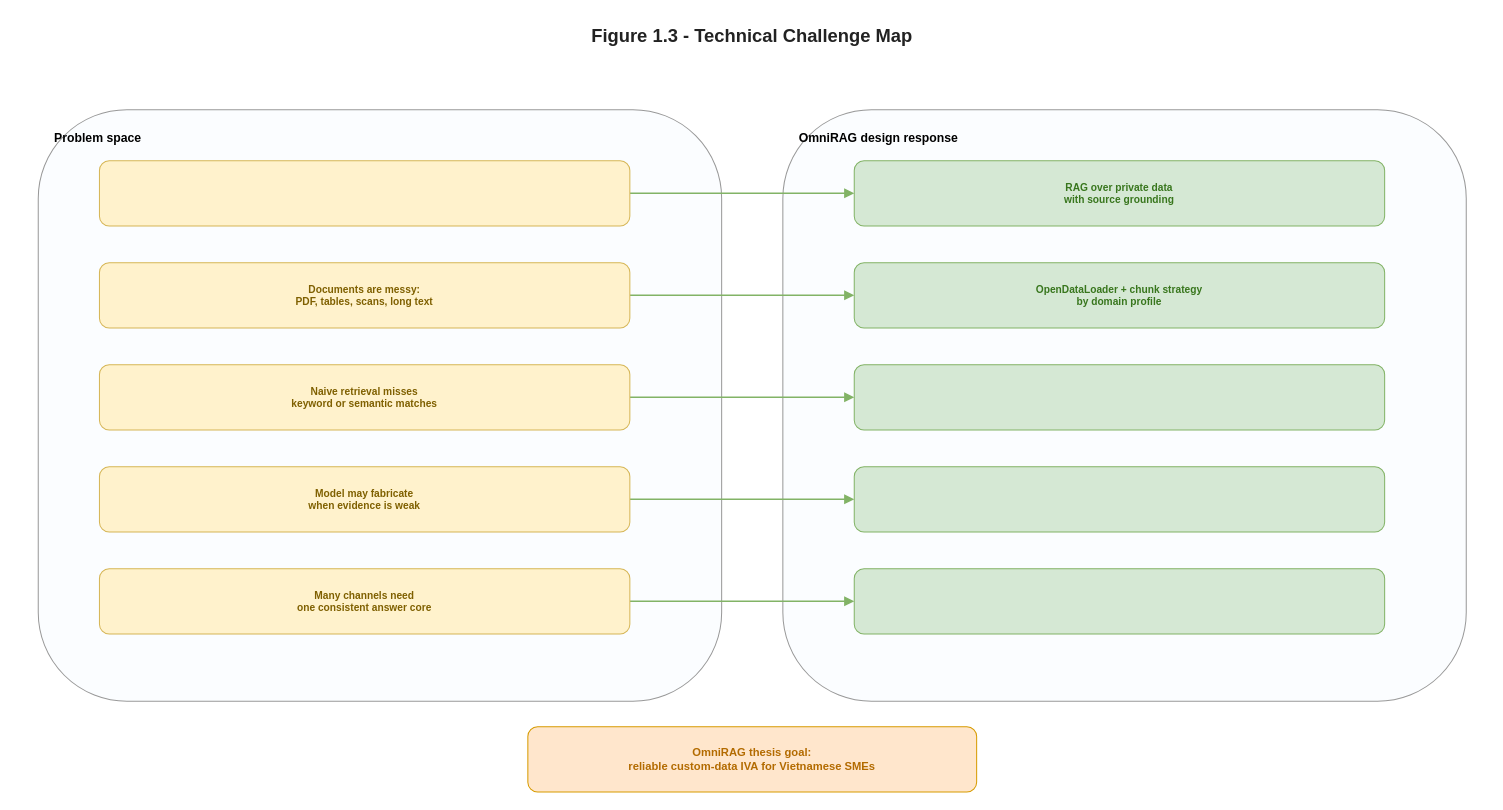
Image size: 1503x810. Some labels were removed from this diagram. Here are the shapes that lost their labels. From the top down, the centre of each, then its label:
At (x=364, y=193): "LLM knowledge is stale and not business-specific".
At (x=1119, y=397): "Hybrid search: vector + BM25 + RRF + rerank".
At (x=1119, y=499): "CRAG classifier relevant / ambiguous / no_context".
At (x=1119, y=601): "Omnichannel adapters reuse the same backend pipeline".
